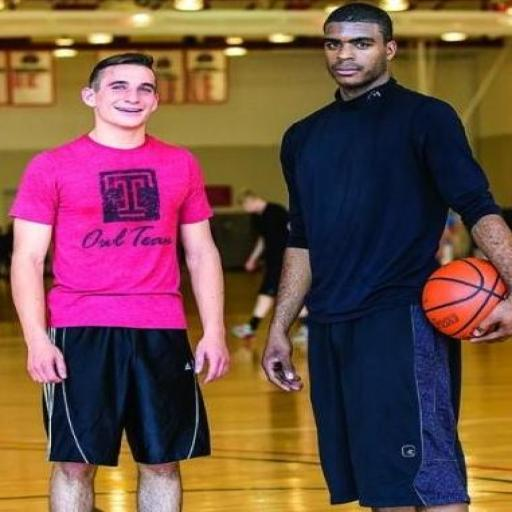person: (263, 3, 511, 511), (11, 54, 228, 511), (232, 190, 288, 339)
